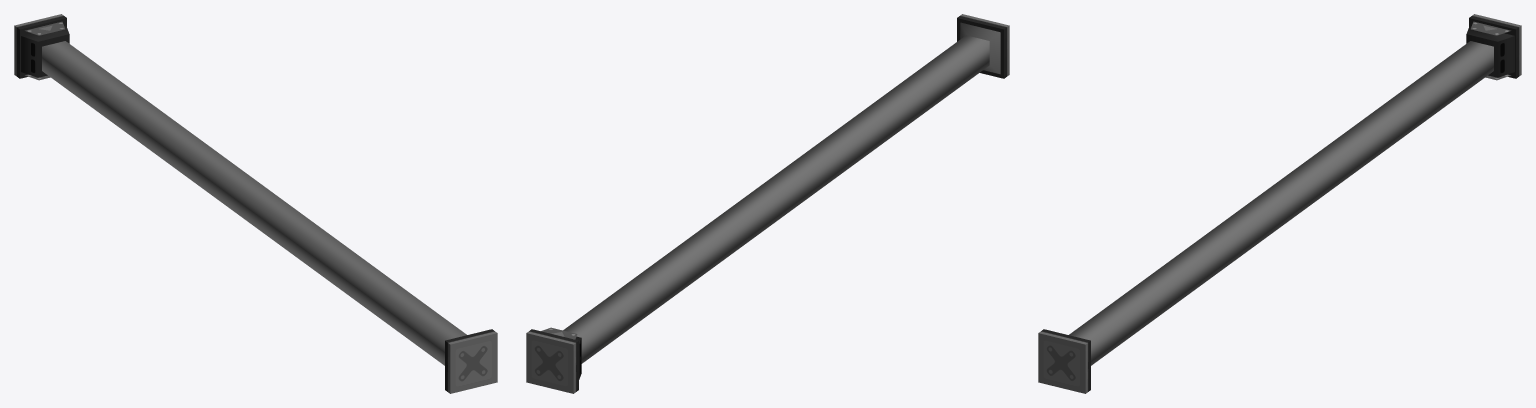
File: obj_interactive_piston_01_on_lod1.fbx
3 renders of one model, left to right at view 1: azimuth 30°, elevation 25°; view 2: azimuth 150°, elevation 25°; view 3: azimuth 330°, elevation 25°, orthographic.
Visible parts, largest first — view 1: obj_interactive_piston_01_on_lod1; view 2: obj_interactive_piston_01_on_lod1; view 3: obj_interactive_piston_01_on_lod1.
Boxes of the visible parts, box(x1,y1,x2,y2) form: obj_interactive_piston_01_on_lod1: box(14, 14, 497, 393); obj_interactive_piston_01_on_lod1: box(526, 14, 1009, 393); obj_interactive_piston_01_on_lod1: box(1038, 14, 1521, 393).
Size of the model in its own units: 1 by 1 by 16.
